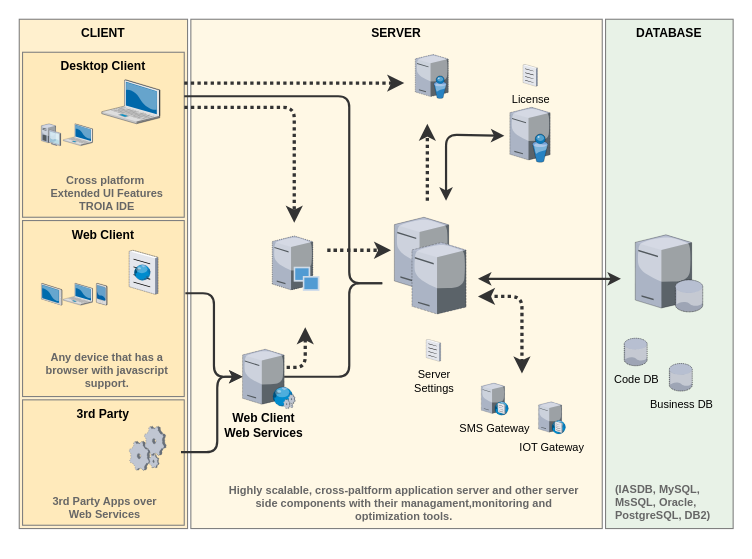
Some shapes in this 752 by 559 pixel diagram are drawn without their labels. Here are the shapes that lost their labels. From the top down, the centre of each, then its label:
(431,75): SSO Gateway
(130,101): JVM
(529,134): License Server
(143,271): Browser
(295,263): Load Balancer
(438,277): Application Server(s)
(668,273): Database Server
